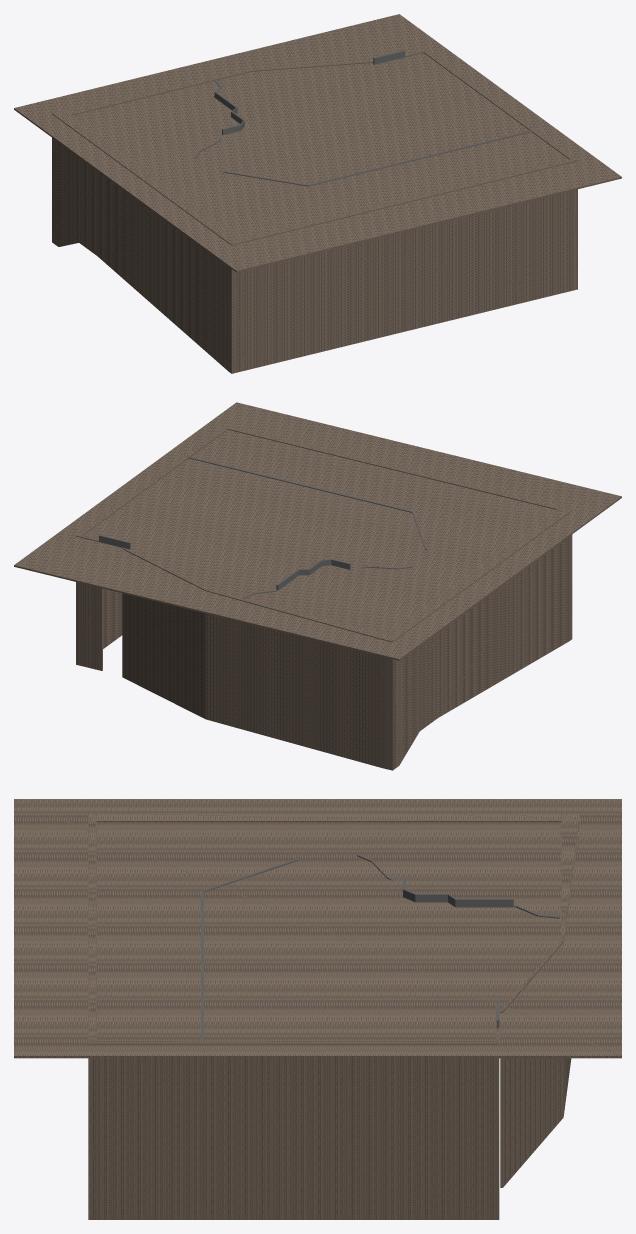
File: cave level 1.obj
3 renders of one model, top to bottom at view 1: azimuth 30°, elevation 25°; view 2: azimuth 150°, elevation 25°; view 3: azimuth 270°, elevation 25°, orthographic. The views are drawn at different scales.
Parts seen in each view (by area): view 1: Pillars (5), Pillars (4), Pillars (7); view 2: Pillars (5), Pillars (4), Pillars (9); view 3: Pillars (5), Pillars (4), Pillars (9), Pillars (7).
Boxes of the visible parts, left/top/right/bottom form: Pillars (5): left=14, top=14, right=621, bottom=272; Pillars (4): left=52, top=50, right=577, bottom=373; Pillars (7): left=223, top=142, right=482, bottom=186; Pillars (5): left=14, top=402, right=621, bottom=660; Pillars (4): left=76, top=425, right=572, bottom=770; Pillars (9): left=276, top=559, right=350, bottom=590; Pillars (5): left=14, top=799, right=621, bottom=1058; Pillars (4): left=88, top=813, right=579, bottom=1219; Pillars (9): left=403, top=877, right=513, bottom=907; Pillars (7): left=201, top=858, right=298, bottom=1007.
Size of the model in its own units: 250 by 84.5 by 250.
2 materials, 1 textured.
